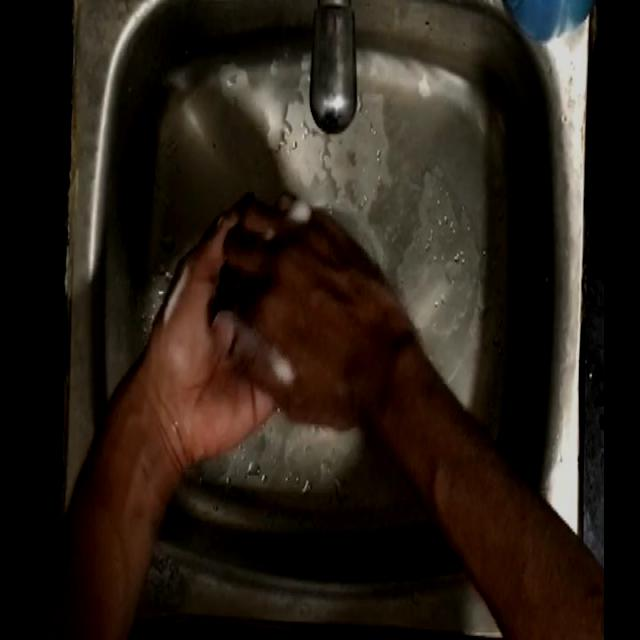step_4: (160, 185, 412, 448)
